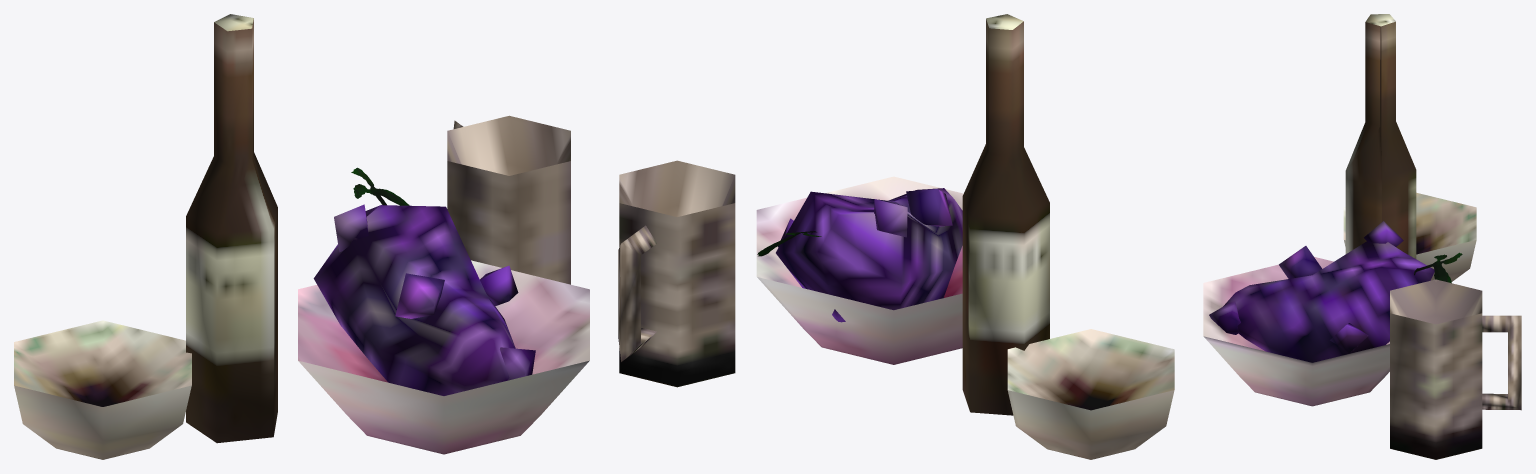
3 renders of one model, left to right at view 1: azimuth 30°, elevation 25°; view 2: azimuth 150°, elevation 25°; view 3: azimuth 270°, elevation 25°, orthographic. The views are drawn at different scales.
Visible parts, largest first — view 1: Beer01; view 2: Beer01; view 3: Beer01.
Part boxes in pixels (x1=…): Beer01: x1=14, y1=14, x2=589, y2=459; Beer01: x1=618, y1=14, x2=1174, y2=459; Beer01: x1=1203, y1=14, x2=1521, y2=459.
Bounding box in the file's own units: 91.2 × 61.8 × 58.57.
